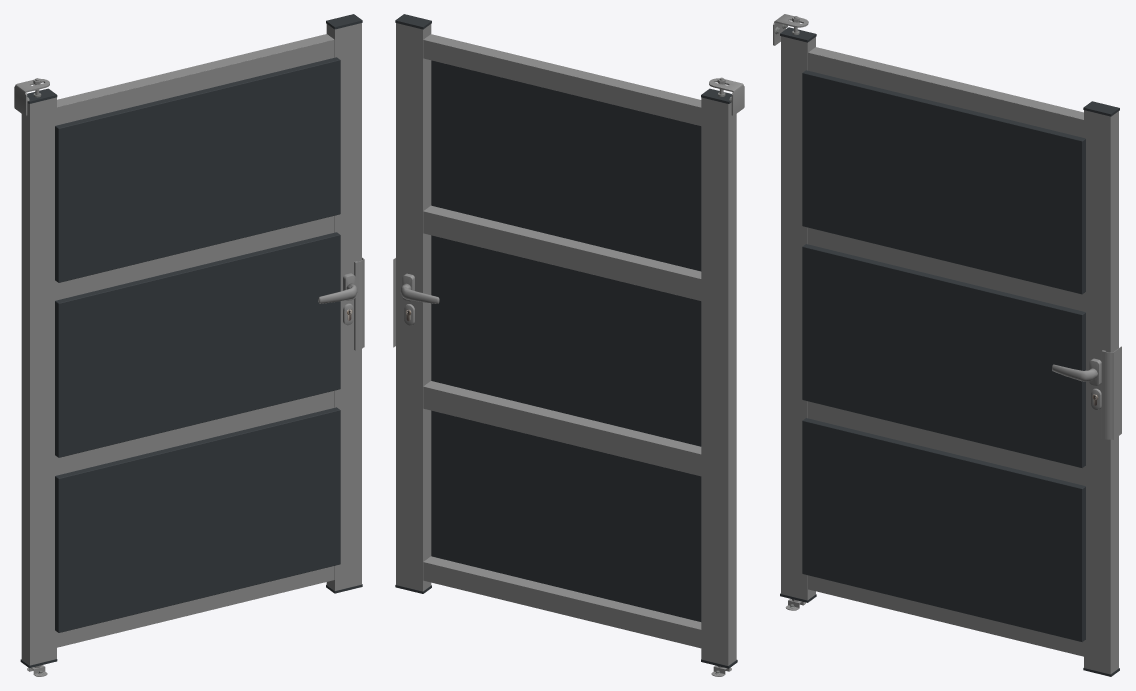
The picture shows the model from 3 angles, left to right: view 1: azimuth 30°, elevation 25°; view 2: azimuth 150°, elevation 25°; view 3: azimuth 330°, elevation 25°; orthographic projection.
Visible parts, largest first — view 1: placa (×3), Shape107412643, Shape107412638, Rectangle098, Rectangle099, Rectangle100, Rectangle097, Shape107412637, Rectangle057; view 2: placa (×3), Shape107412643, Shape107412638, Rectangle100, Rectangle099, Rectangle097, Rectangle098, Rectangle057; view 3: placa (×3), Shape107412638, Shape107412643, Rectangle098, Rectangle099, Rectangle100, Rectangle097, Shape107412637.
Boxes of the visible parts, x1,y1,x2,y2 form: placa (×3): (55,57,340,632); Shape107412643: (21,97,56,665); Shape107412638: (326,23,361,590); Rectangle098: (57,34,334,125); Rectangle099: (57,390,334,475); Rectangle100: (57,216,334,300); Rectangle097: (57,566,334,647); Shape107412637: (354,257,364,350); Rectangle057: (14,78,49,116); placa (×3): (431,60,701,621); Shape107412643: (701,97,736,665); Shape107412638: (396,23,431,591); Rectangle100: (423,205,701,300); Rectangle099: (423,381,701,476); Rectangle097: (423,556,701,648); Rectangle098: (423,34,701,125); Rectangle057: (709,78,744,115); placa (×3): (802,70,1085,641); Shape107412638: (1084,110,1118,674); Shape107412643: (781,36,815,600); Rectangle098: (808,47,1083,137); Rectangle099: (808,401,1083,485); Rectangle100: (808,227,1083,311); Rectangle097: (808,575,1083,656); Shape107412637: (1101,346,1121,439).
Bounding box in the file's own units: 1015 × 1688 × 152.
7 materials, 4 textured.
